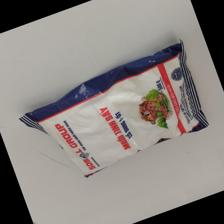Salt: (18, 40, 211, 184)
